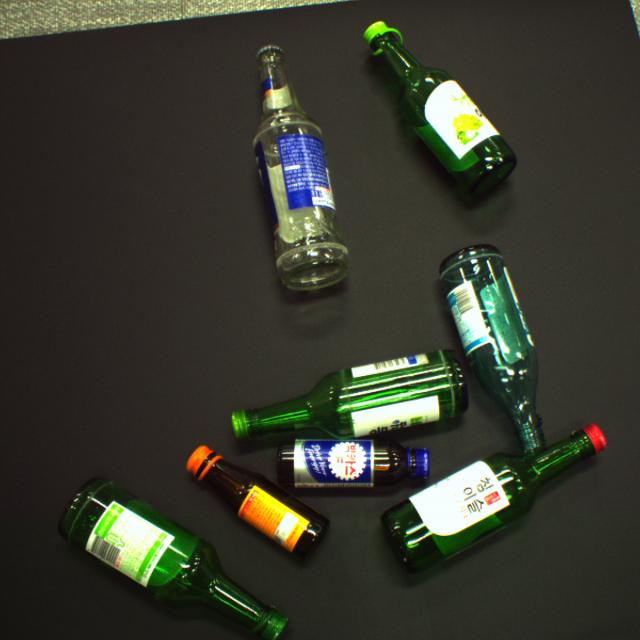beer-bottle: (252, 45, 351, 291)
soju-bottle: (56, 476, 290, 639), (381, 423, 608, 575), (363, 21, 518, 200), (438, 243, 546, 455), (231, 350, 469, 442)
